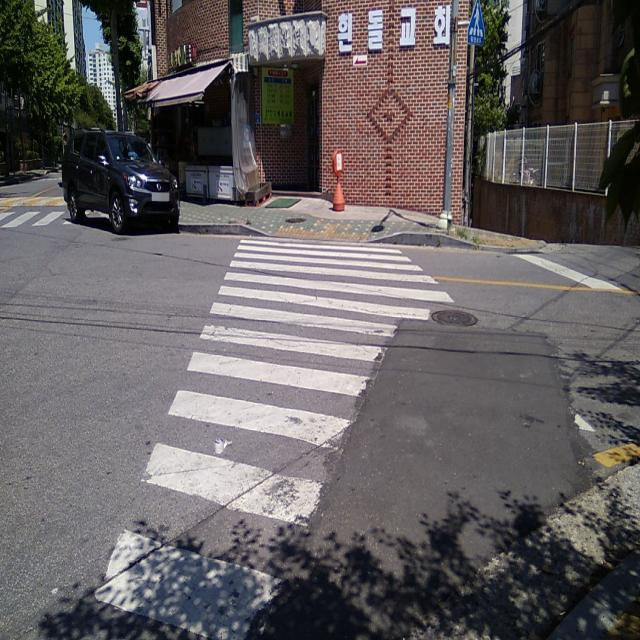횡단보도: (93, 236, 598, 640)
